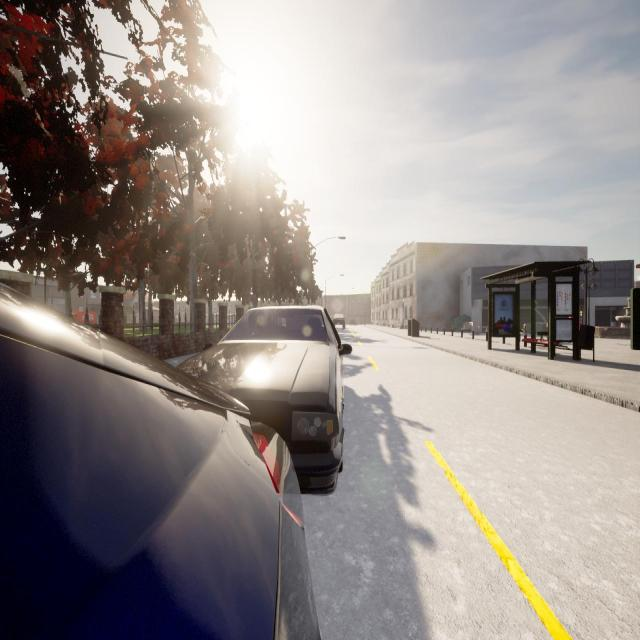Vehicle: (0, 280, 318, 639), (180, 306, 352, 489), (333, 314, 345, 329)
